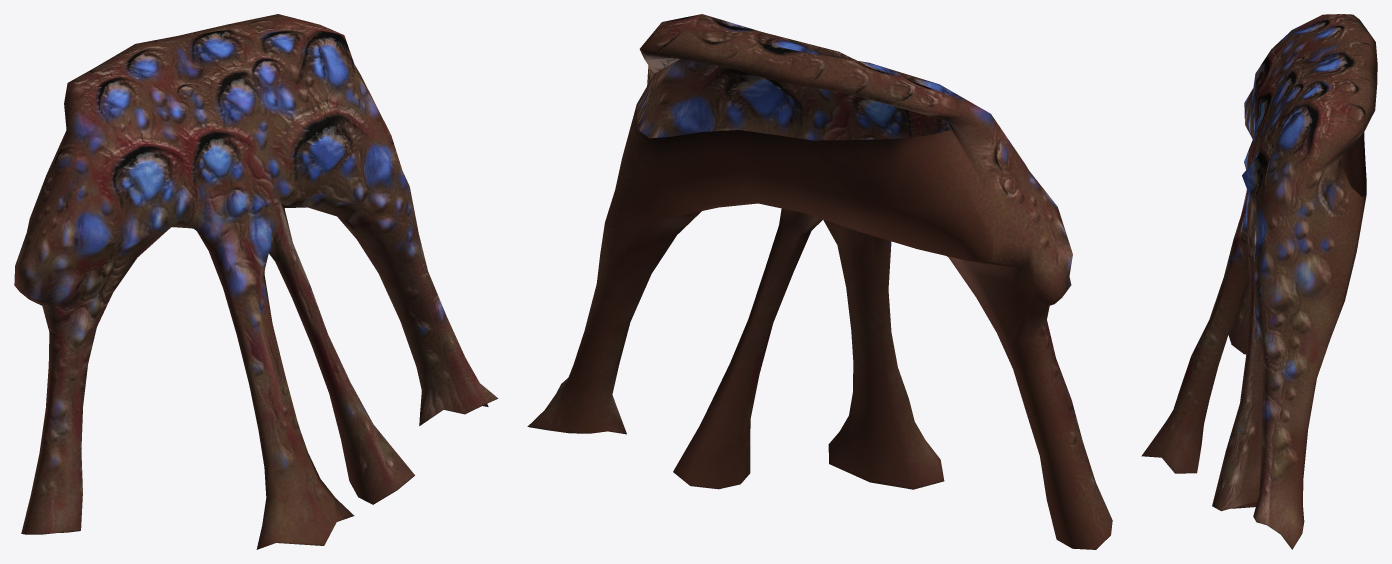
File: FBX_goo_drain_closed.fbx
3 views of the same model, side by side, from view 1: azimuth 30°, elevation 25°; view 2: azimuth 150°, elevation 25°; view 3: azimuth 270°, elevation 25° (orthographic). The views are drawn at different scales.
Parts seen in each view (by area): view 1: goo_drain_closed_geo; view 2: goo_drain_closed_geo; view 3: goo_drain_closed_geo.
Boxes of the visible parts, left/top/right/bottom form: goo_drain_closed_geo: left=14, top=14, right=497, bottom=549; goo_drain_closed_geo: left=527, top=14, right=1112, bottom=549; goo_drain_closed_geo: left=1141, top=14, right=1377, bottom=549.
Size of the model in its own units: 2.7 by 1.24 by 2.37.
